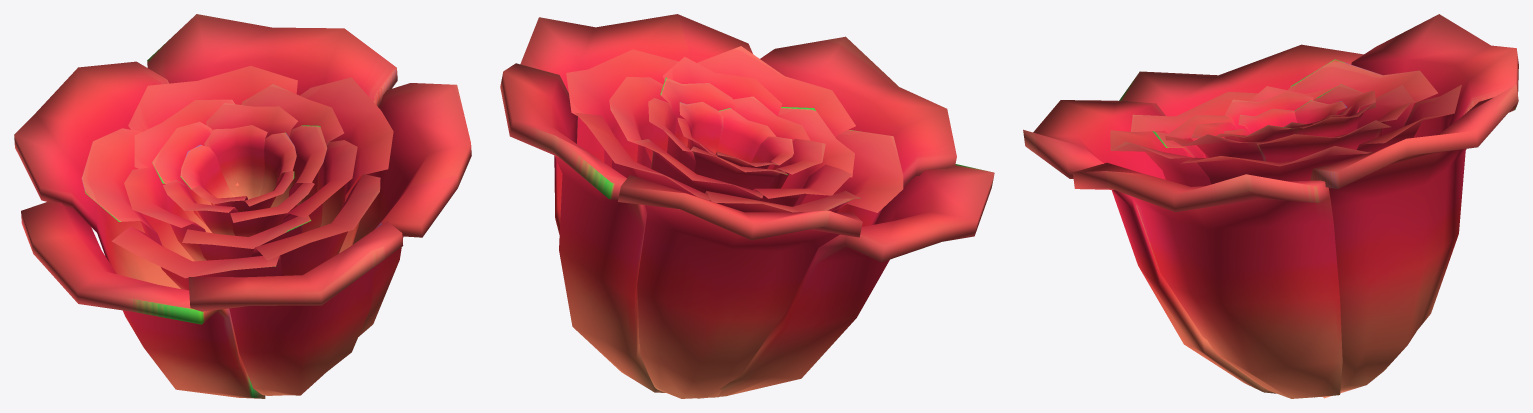
Rendered from Rosa.fbx.
The picture shows the model from 3 angles, left to right: view 1: azimuth 30°, elevation 25°; view 2: azimuth 150°, elevation 25°; view 3: azimuth 270°, elevation 25°; orthographic projection. The views are drawn at different scales.
Visible parts, largest first — view 1: pCylinder3.004; view 2: pCylinder3.004; view 3: pCylinder3.004.
Boxes of the visible parts, <box> form: pCylinder3.004: <box>14,14,471,398</box>; pCylinder3.004: <box>500,14,994,398</box>; pCylinder3.004: <box>1023,14,1518,398</box>.
Size of the model in its own units: 25.63 by 18.08 by 24.93.
1 material, 1 textured.
